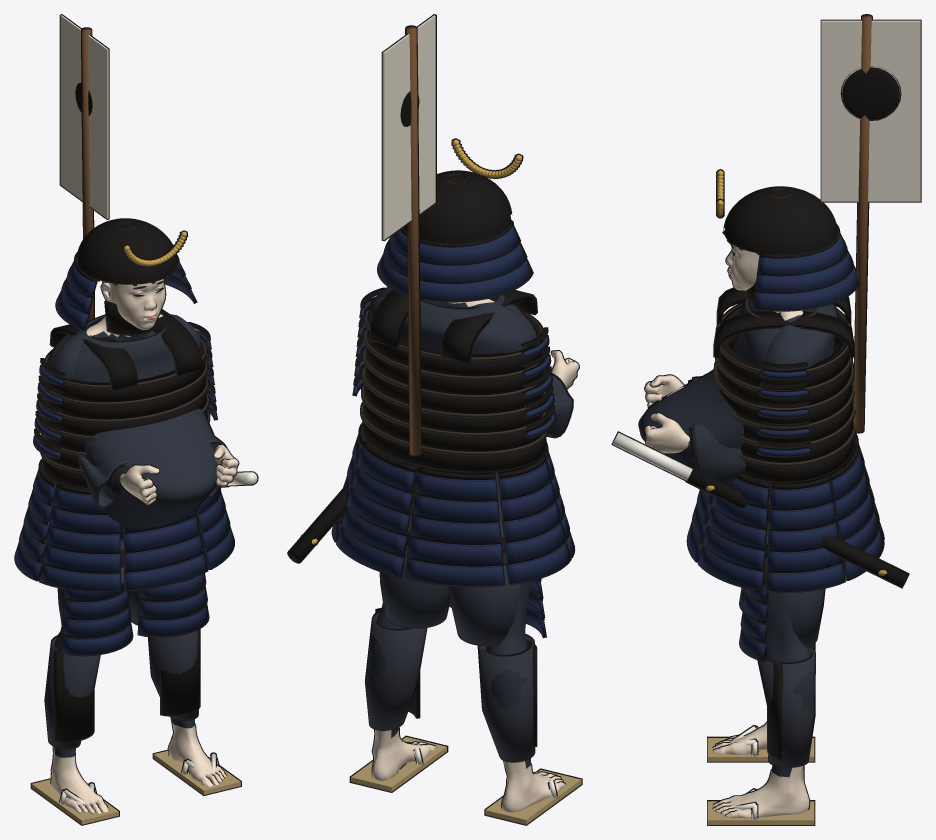
The model's file is bushi_tousei.glb.
3 views of the same model, side by side, from view 1: azimuth 30°, elevation 25°; view 2: azimuth 150°, elevation 25°; view 3: azimuth 270°, elevation 25° (orthographic). The views are drawn at different scales.
Visible parts, largest first — view 1: shitagi, Human, sashimono, kusazuri6, kusazuri0, hachi, haidate.R, haidate.L, kusazuri5, suneate.R, shikoro, suneate_nuno.R (+32 smaller); view 2: kusazuri4, Human, sashimono, shikoro, kusazuri3, kusazuri5, hachi, suneate_nuno.L, suneate_nuno.R, sashimono_sao, shitagi, hakama.R (+36 smaller); view 3: sashimono, Human, kusazuri2, shitagi, hachi, kusazuri1, shikoro, sashimono_sao, kusazuri3, suneate_nuno.L, sode.L.001, hata_mon (+25 smaller).
Part boxes in pixels (x1,y1,x2,y2): shitagi: (49,316,217,565); Human: (47,279,238,813); sashimono: (60,15,108,218); kusazuri6: (40,484,120,591); kusazuri0: (124,508,207,590); hachi: (77,219,176,284); haidate.R: (62,583,132,654); haidate.L: (138,574,208,636); kusazuri5: (15,460,56,580); suneate.R: (54,651,93,741); shikoro: (56,256,196,329); suneate_nuno.R: (45,637,99,748); kusazuri4: (405,468,504,585); Human: (368,287,578,812); sashimono: (382,15,435,239); shikoro: (378,222,532,301); kusazuri3: (337,442,415,576); kusazuri5: (498,456,570,583); hachi: (403,172,510,243); suneate_nuno.L: (366,612,426,729); suneate_nuno.R: (478,635,533,761); sashimono_sao: (406,26,420,455); shitagi: (369,295,531,553); hakama.R: (449,565,520,644); sashimono: (821,20,920,201); Human: (645,244,815,818); kusazuri2: (766,476,844,591); shitagi: (639,299,837,559); hachi: (724,187,836,254); kusazuri1: (699,475,768,590); shikoro: (753,227,858,310); sashimono_sao: (853,15,871,432); kusazuri3: (830,445,883,579); suneate_nuno.L: (758,647,814,766); sode.L.001: (757,363,810,456); hata_mon: (842,67,899,119).
Size of the model in its own units: 0.5939 by 2.05 by 0.7493.
